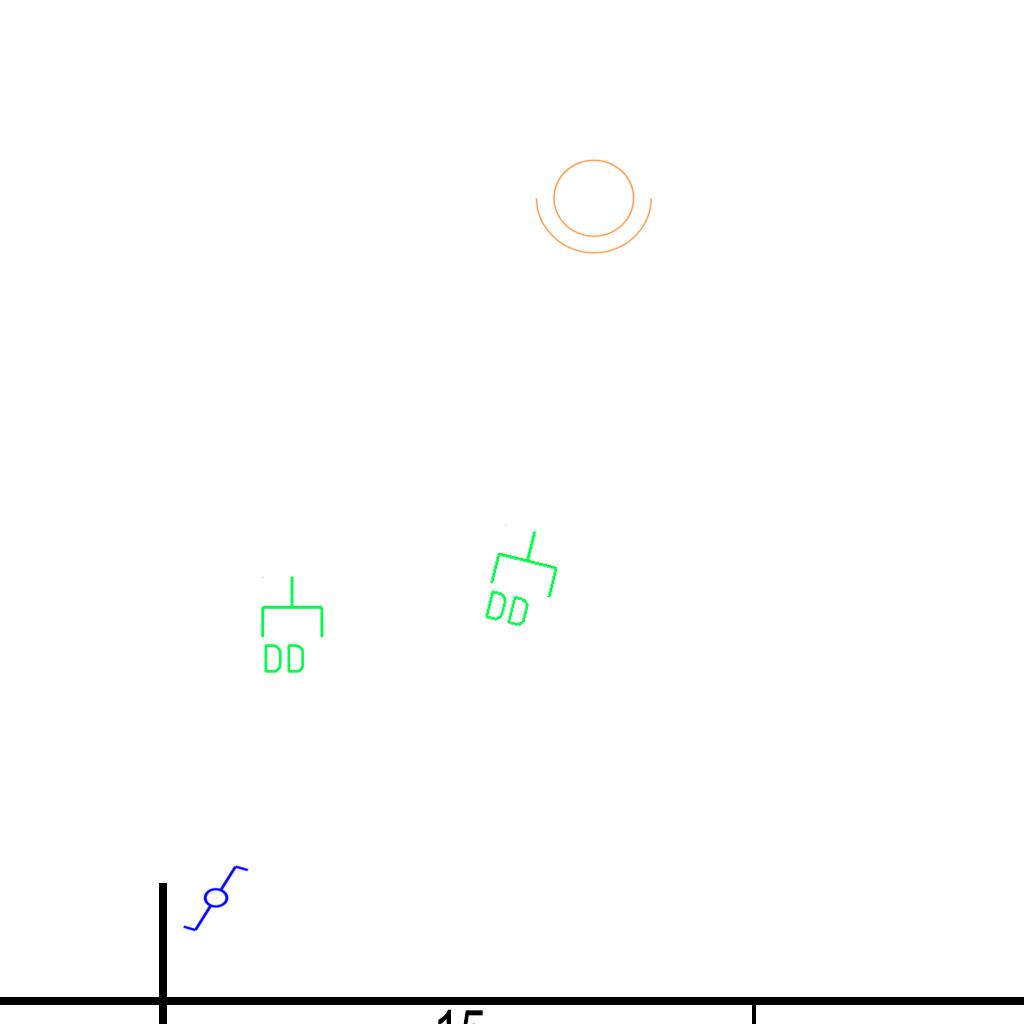Datenanschluss_zweifach: (476, 520, 569, 637), (257, 574, 326, 677)
Scheinwerfer_fuer_Alarmbeleuchtung: (531, 147, 663, 259)
Wechselschalter: (181, 863, 259, 935)
